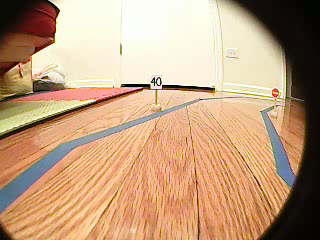Speed Limit 40: (150, 74, 163, 89)
Stop Sign: (271, 88, 280, 100)
